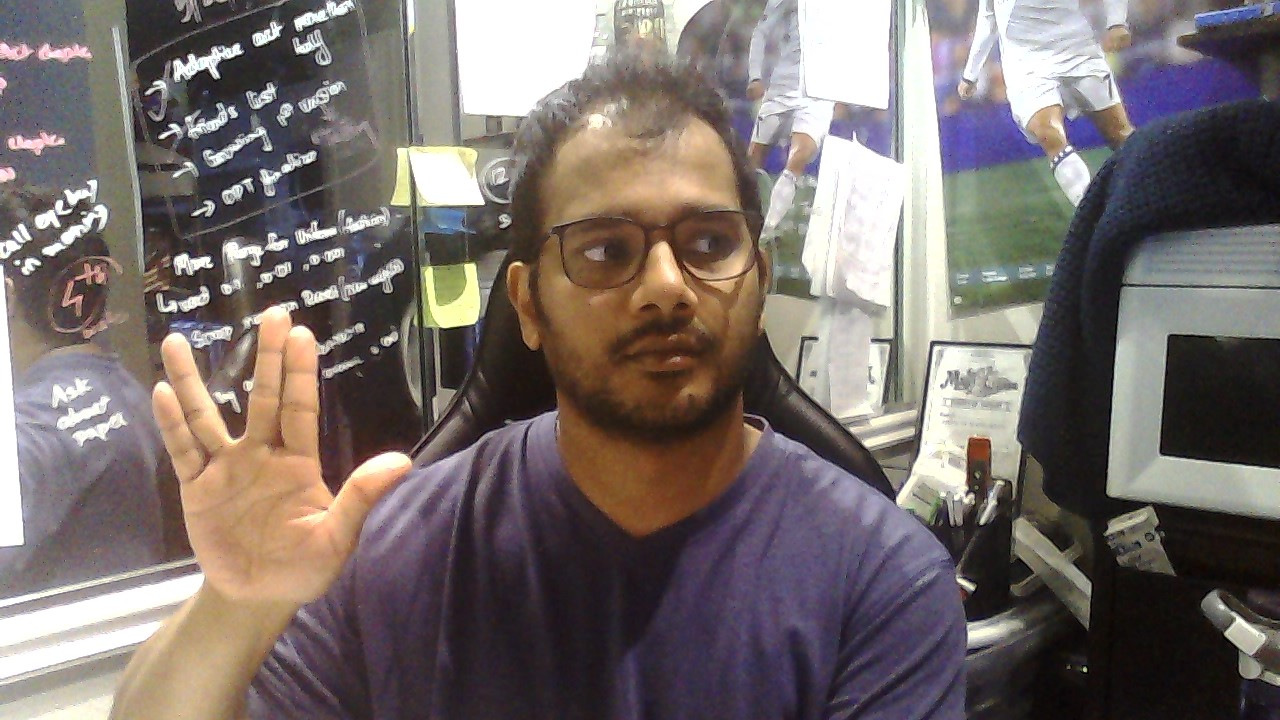LiveLong: (152, 306, 413, 601)
